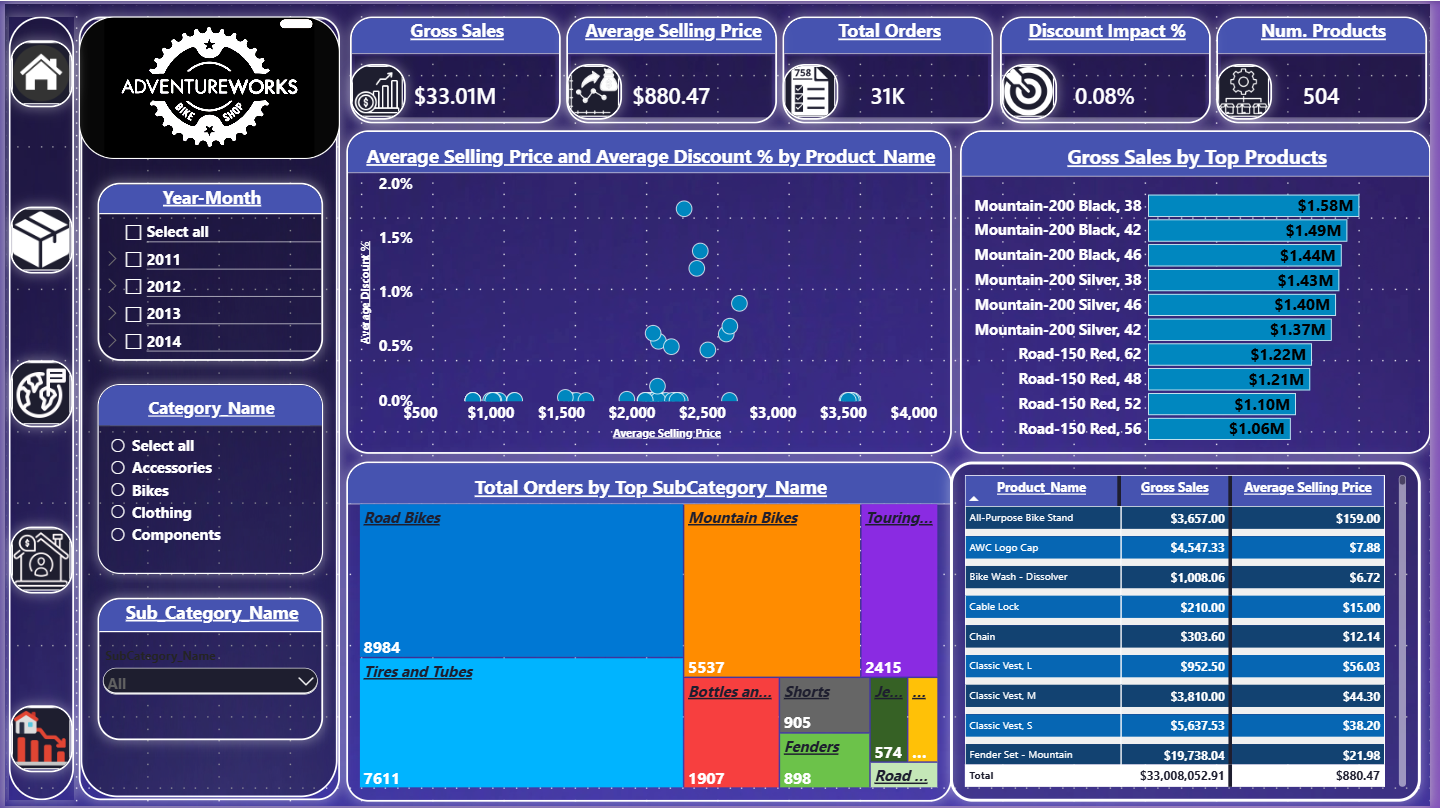

The dashboard page shown, as its layout file describes it:
{"tool":"powerbi","page":{"name":"Products_Dashboard","canvas":[1920,1080],"ordinal":1},"visuals":[{"type":"cardVisual","fields":{"Data":["Measures_Table.Total Tax"]},"box":[3389.7,146.7,449.4,209.1],"z":0},{"type":"cardVisual","title":"Gross Sales","fields":{"Data":["Measures_Table.Gross Sales"]},"box":[464,16,284,144],"z":1000},{"type":"cardVisual","title":"Total Orders","fields":{"Data":["Measures_Table.Total Orders"]},"box":[1048,16,284,144],"z":2000},{"type":"cardVisual","title":"Num. Products","fields":{"Data":["Measures_Table.Total Products"]},"box":[1632,16,284,144],"z":3000},{"type":"cardVisual","title":"Discount Impact %","fields":{"Data":["Measures_Table.Discount Impact %"]},"box":[1340,16,284,144],"z":4000},{"type":"cardVisual","title":"Average Selling Price","fields":{"Data":["Measures_Table.Average Selling Price"]},"box":[756,16,284,144],"z":5000},{"type":"image","box":[100,16,352,1056],"z":6000},{"type":"image","box":[100,16,352,192],"z":7000},{"type":"image","box":[5,16,88,1056],"z":8000},{"type":"slicer","title":"   Year-Month","fields":{"Values":["Dim_Date.Year","Dim_Date.Month"]},"box":[125,240,304,240],"z":9000},{"type":"listSlicer","fields":{"Values":["Dim_Products.Category_Name"]},"box":[125,512,304,256],"z":10000},{"type":"slicer","title":"Sub_Category_Name","fields":{"Values":["Dim_Products.SubCategory_Name"]},"box":[125,800,304,192],"z":11000},{"type":"barChart","title":"Gross Sales by Top Products","fields":{"Category":["Dim_Products.Product_Name"],"Y":["Measures_Table.Gross Sales"]},"box":[1286,170,634,436],"z":12000},{"type":"treemap","title":"Total Orders by Top SubCategory_Name","fields":{"Group":["Dim_Products.SubCategory_Name"],"Values":["Measures_Table.Total Orders"]},"box":[460,617,816,458],"z":13000},{"type":"scatterChart","fields":{"Category":["Dim_Products.Product_Name"],"X":["Measures_Table.Average Selling Price"],"Y":["Measures_Table.Average Discount %"]},"box":[460,170,816,436],"z":14000},{"type":"pivotTable","fields":{"Rows":["Dim_Products.Product_Name"],"Values":["Measures_Table.Gross Sales","Measures_Table.Average Selling Price"]},"box":[1274,617,634,458],"z":15000},{"type":"image","box":[7,48,85,90],"z":16000},{"type":"image","box":[7,272,85,90],"z":17000},{"type":"image","box":[7,480,85,90],"z":18000},{"type":"image","box":[7,704,85,90],"z":19000},{"type":"image","box":[7,944,85,90],"z":20000},{"type":"image","box":[464,80,75,75],"z":21000},{"type":"image","box":[1342,80,75,75],"z":22000},{"type":"image","box":[1048,80,75,75],"z":23000},{"type":"image","box":[757,80,75,75],"z":24000},{"type":"image","box":[1632,80,75,75],"z":25000}]}

Visuals, with their boxes in screenshot pixels (x1, y1, x2, y2), scaled from the page's 1920x1080 canvas onto the 1440x808 screenshot:
"Gross Sales" cardVisual: (348,12,561,120)
"Total Orders" cardVisual: (786,12,999,120)
"Num. Products" cardVisual: (1224,12,1437,120)
"Discount Impact %" cardVisual: (1005,12,1218,120)
"Average Selling Price" cardVisual: (567,12,780,120)
image: (75,12,339,802)
image: (75,12,339,156)
image: (4,12,70,802)
"   Year-Month" slicer: (94,180,322,359)
listSlicer - Dim_Products.Category_Name: (94,383,322,575)
"Sub_Category_Name" slicer: (94,599,322,742)
"Gross Sales by Top Products" barChart: (964,127,1439,453)
"Total Orders by Top SubCategory_Name" treemap: (345,462,957,804)
scatterChart - Dim_Products.Product_Name x Measures_Table.Average Selling Price: (345,127,957,453)
pivotTable - Dim_Products.Product_Name x Measures_Table.Gross Sales: (956,462,1431,804)
image: (5,36,69,103)
image: (5,203,69,271)
image: (5,359,69,426)
image: (5,527,69,594)
image: (5,706,69,774)
image: (348,60,404,116)
image: (1006,60,1063,116)
image: (786,60,842,116)
image: (568,60,624,116)
image: (1224,60,1280,116)
